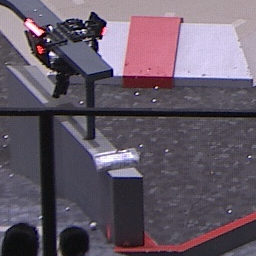Robot: (22, 8, 108, 98)
